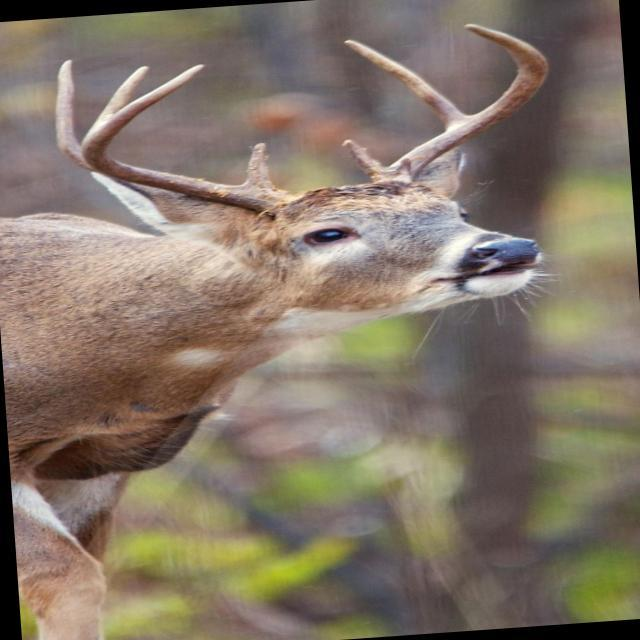L-F: (373, 23, 548, 186)
L-G1: (340, 138, 384, 177)
L-G2: (342, 38, 470, 129)
R-F: (77, 63, 284, 209)
R-G1: (240, 142, 276, 188)
